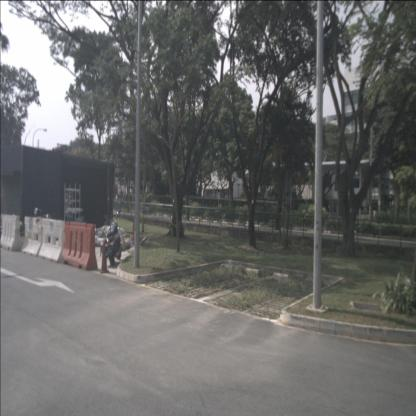barrier: (61, 221, 98, 269), (39, 218, 65, 263), (20, 216, 45, 257), (0, 214, 22, 251)
cone: (100, 240, 109, 274)
